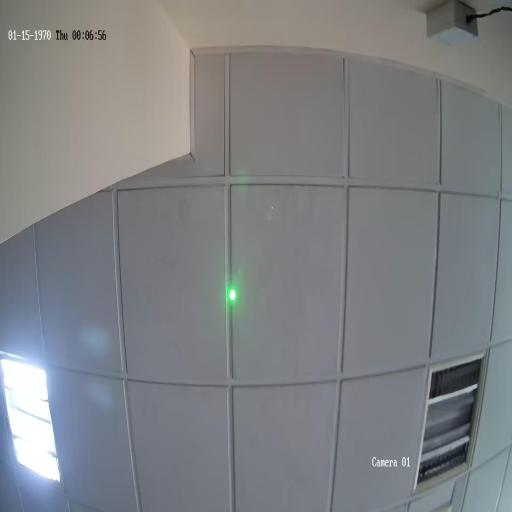laser: (228, 287, 237, 303)
